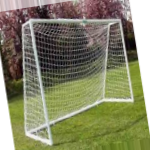goals: (19, 14, 135, 146)
